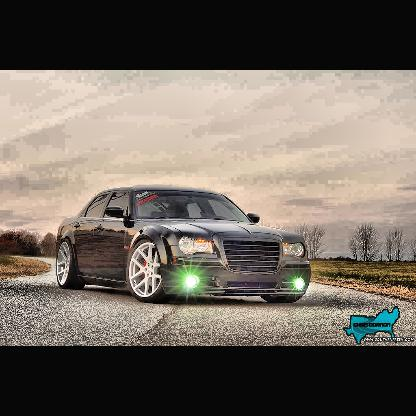Chrysler 300 SRT-8 2010: (54, 185, 312, 306)
